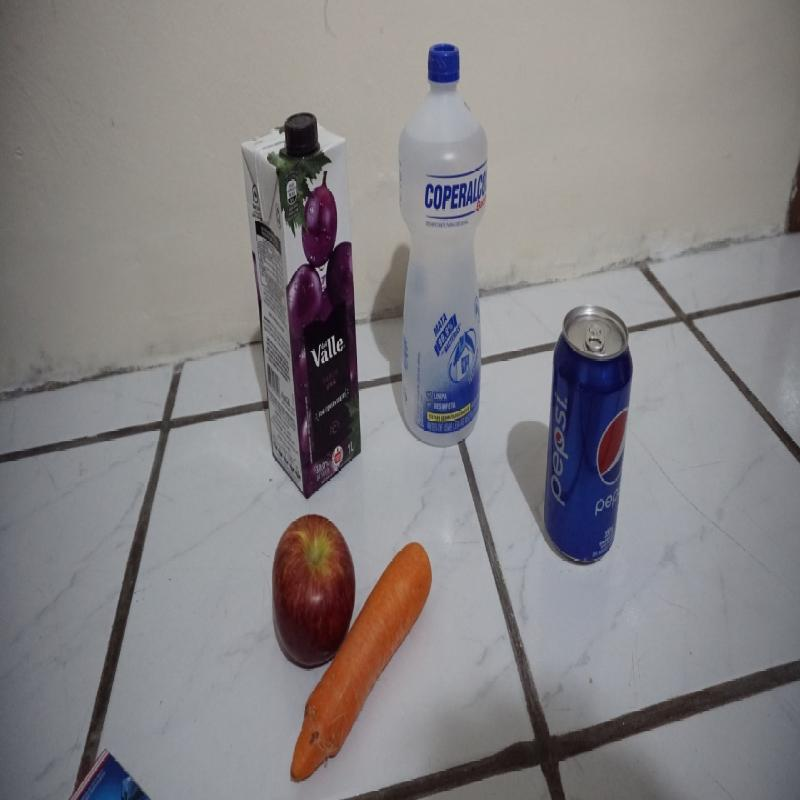Alcohol Bottle: (397, 40, 489, 449)
Apple: (270, 513, 356, 669)
Carrot: (357, 542, 432, 712)
Gelatine: (64, 749, 156, 798)
Soda can: (543, 302, 634, 566)
